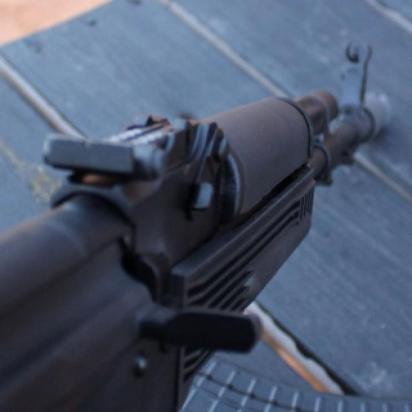Gun: (0, 37, 397, 401)
